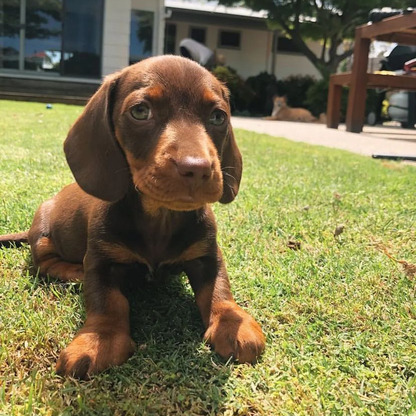dachshund: (20, 38, 264, 387)
